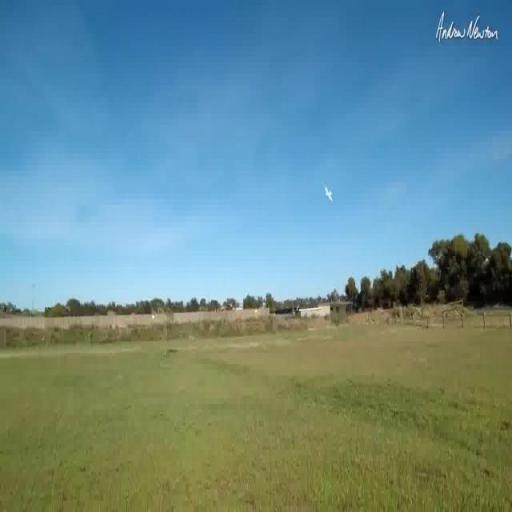uav: (316, 169, 340, 209)
